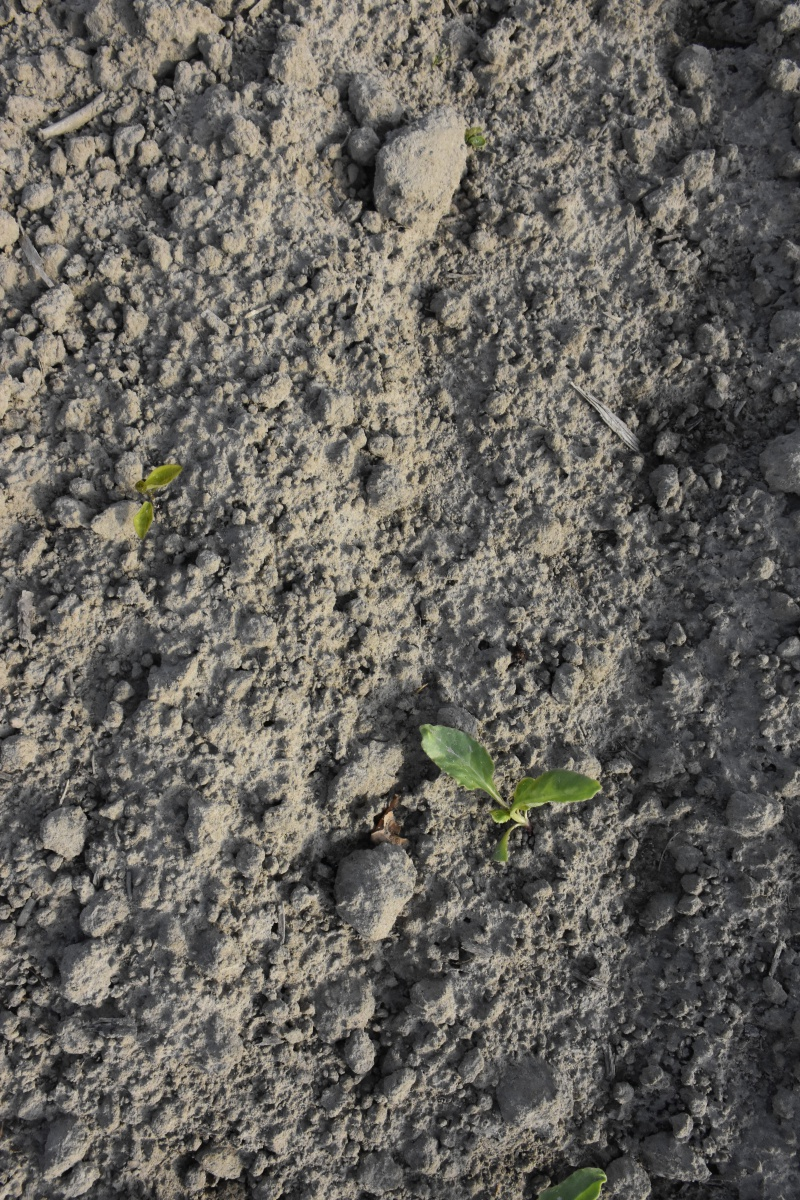field bindweed: (125, 459, 187, 549)
sugar beet: (418, 725, 606, 857)
